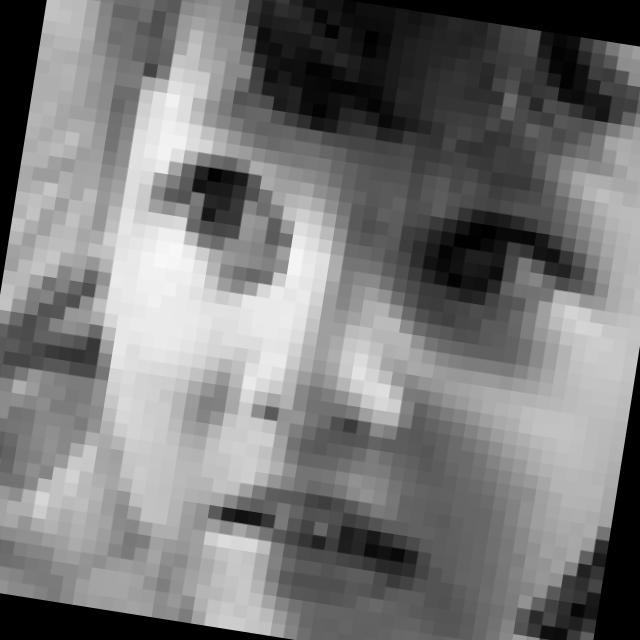fear: (82, 106, 634, 640)
